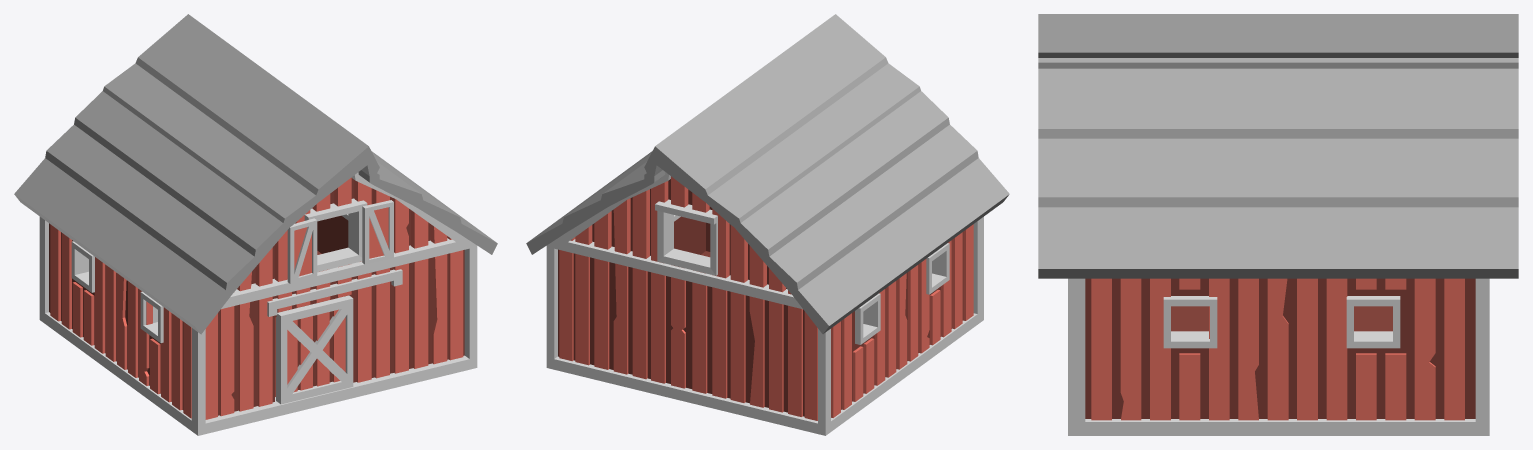
The model's file is SmallBarn.fbx.
3 views of the same model, side by side, from view 1: azimuth 30°, elevation 25°; view 2: azimuth 150°, elevation 25°; view 3: azimuth 270°, elevation 25° (orthographic). The views are drawn at different scales.
Parts seen in each view (by area): view 1: Small_Barn, Small_Barn_Door, SmallBarn_Window, SmallBarn_Window2; view 2: Small_Barn; view 3: Small_Barn.
Part boxes in pixels (x1,y1,x2,y2): Small_Barn: [14, 14, 497, 435]; Small_Barn_Door: [276, 295, 353, 404]; SmallBarn_Window: [362, 200, 393, 264]; SmallBarn_Window2: [287, 218, 317, 283]; Small_Barn: [526, 14, 1009, 435]; Small_Barn: [1038, 14, 1518, 435].
Size of the model in its own units: 608 by 496 by 627.
